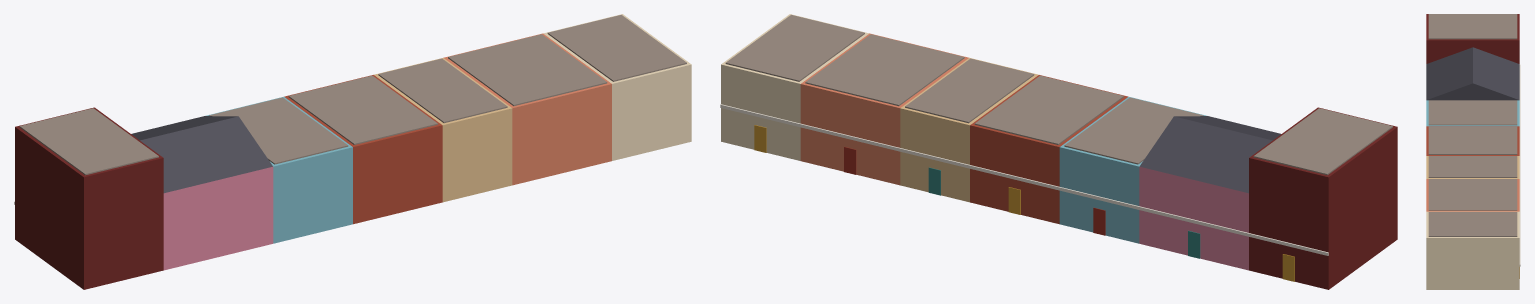
The model's file is chunk_-1_1.glb.
3 views of the same model, side by side, from view 1: azimuth 30°, elevation 25°; view 2: azimuth 150°, elevation 25°; view 3: azimuth 270°, elevation 25° (orthographic). The views are drawn at different scales.
Parts seen in each view (by area): view 1: chunk_-1_1__building; view 2: chunk_-1_1__building; view 3: chunk_-1_1__building.
Part boxes in pixels (x1,y1,x2,y2): chunk_-1_1__building: (14, 14, 691, 289); chunk_-1_1__building: (720, 14, 1397, 289); chunk_-1_1__building: (1426, 14, 1520, 289).
Bounding box in the file's own units: 61 × 10.92 × 12.12.
